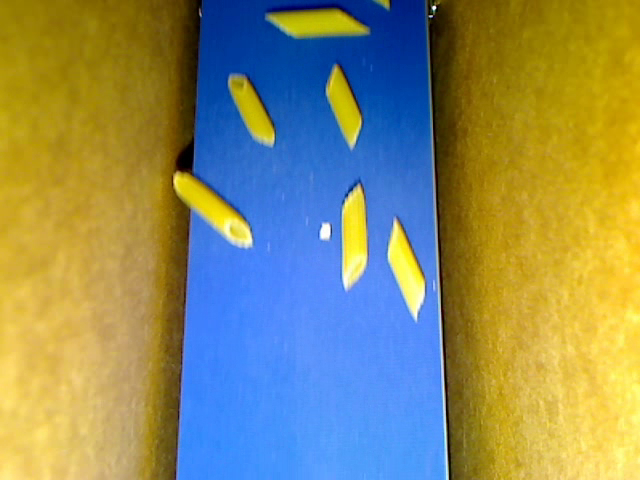penne: (171, 171, 253, 249), (388, 217, 426, 322), (226, 73, 274, 148), (324, 64, 361, 149), (341, 181, 368, 291), (266, 9, 368, 38)
